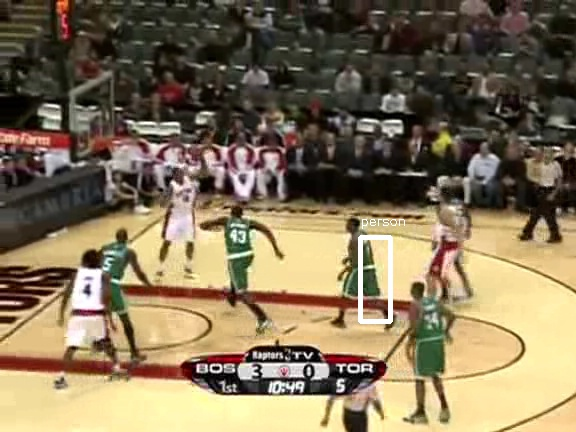person: (344, 225, 378, 306), (343, 225, 377, 306), (345, 225, 379, 306), (344, 224, 378, 305), (344, 226, 378, 307)
target_negative: (141, 176, 474, 422), (177, 241, 510, 404), (362, 146, 500, 325), (101, 335, 570, 357), (373, 189, 558, 207), (99, 399, 453, 405)
